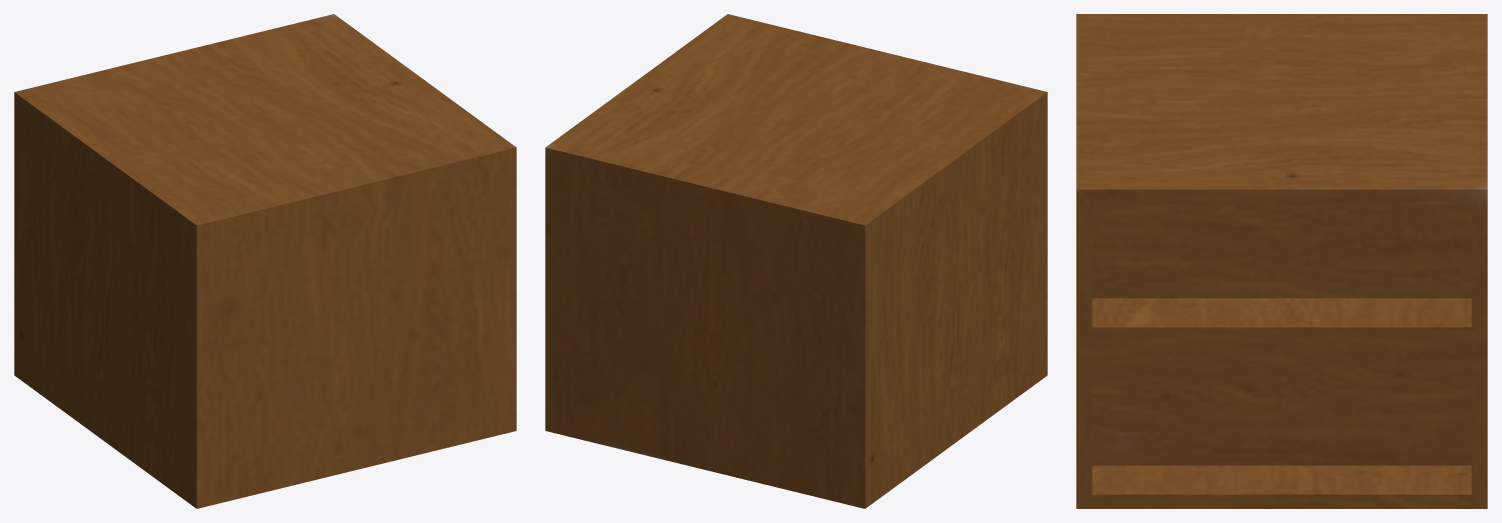
The model's file is Smol_Shelf.fbx.
3 views of the same model, side by side, from view 1: azimuth 30°, elevation 25°; view 2: azimuth 150°, elevation 25°; view 3: azimuth 270°, elevation 25° (orthographic). The views are drawn at different scales.
Parts seen in each view (by area): view 1: Smol Shelf; view 2: Smol Shelf; view 3: Smol Shelf.
Part boxes in pixels (x1,y1,x2,y2): Smol Shelf: (14, 14, 516, 508); Smol Shelf: (545, 14, 1047, 508); Smol Shelf: (1076, 14, 1487, 508).
Size of the model in its own units: 101 by 85.17 by 99.41.
